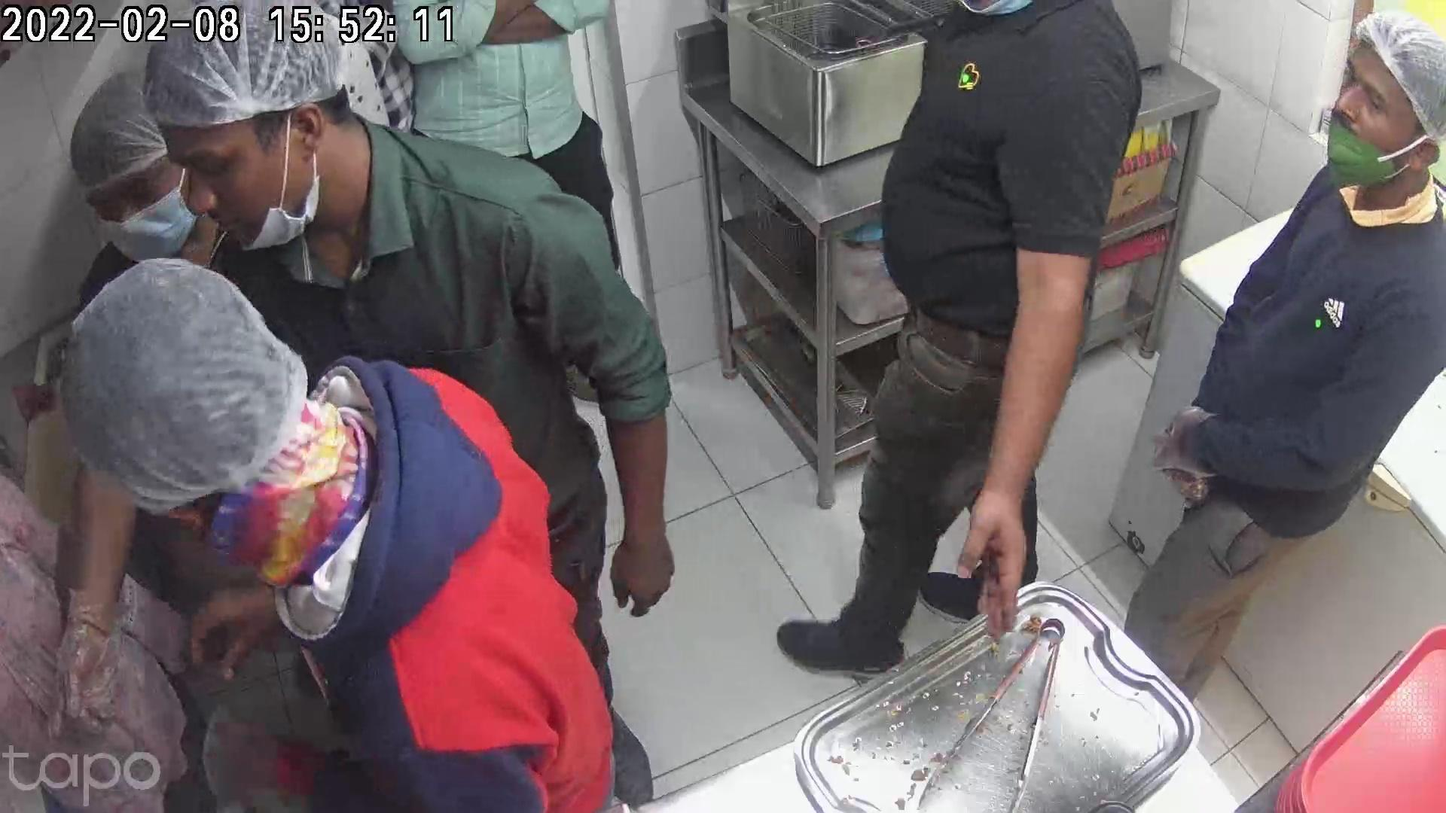no_gloves: (608, 488, 676, 616)
